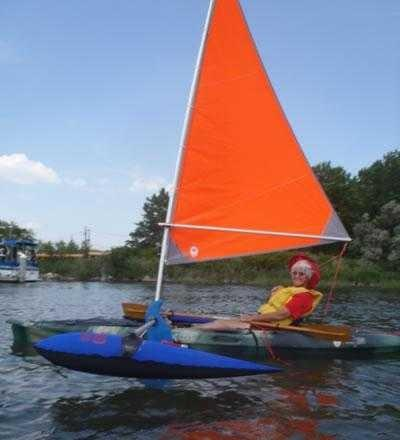kayak: (116, 3, 353, 350), (32, 327, 282, 381), (141, 312, 399, 356), (0, 239, 42, 284)
